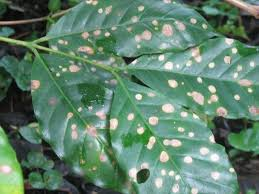ojo de gallo: (125, 86, 233, 193), (54, 25, 241, 75)
